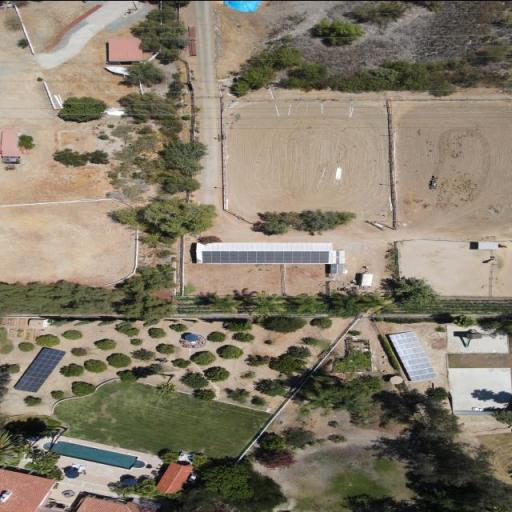solar-panel: (389, 330, 439, 381), (14, 347, 67, 392), (202, 250, 329, 263)
